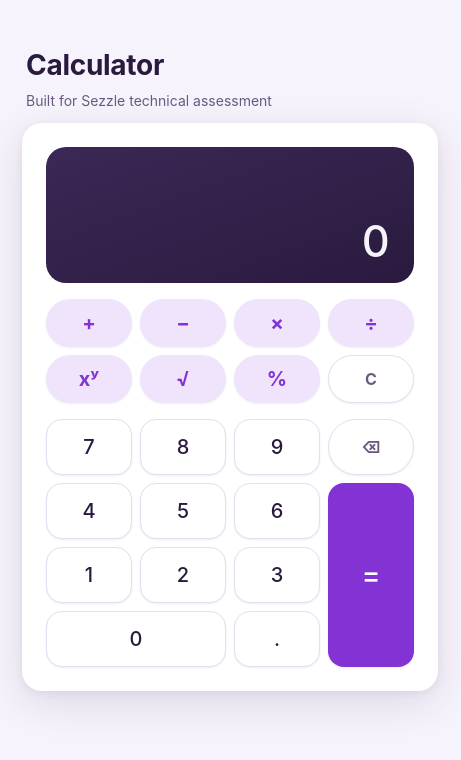
Test: App › shows a loading state and prevents double submits
Step 1. Click the button "2" → x=183, y=574, box [140, 546, 226, 602]
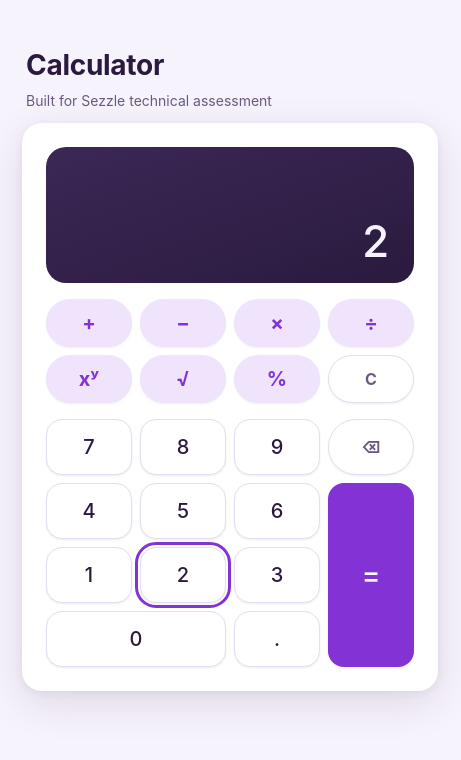
Step 2. Click the button named "Add" → x=89, y=322, box [46, 298, 132, 346]
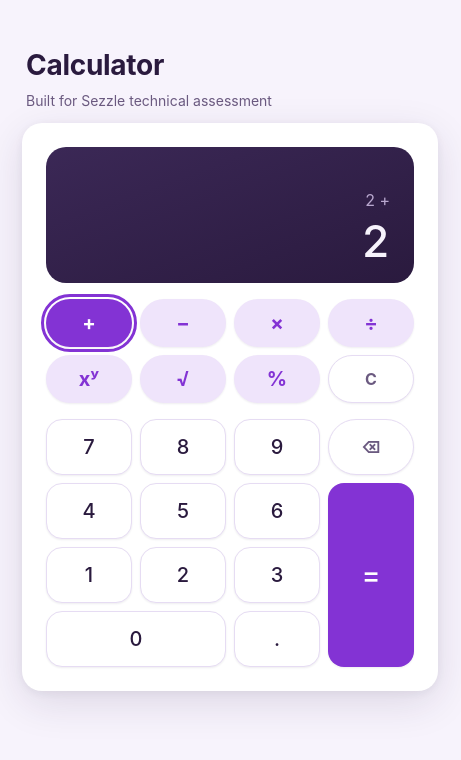
Step 3. Click the button "3" → x=277, y=574, box [234, 546, 320, 602]
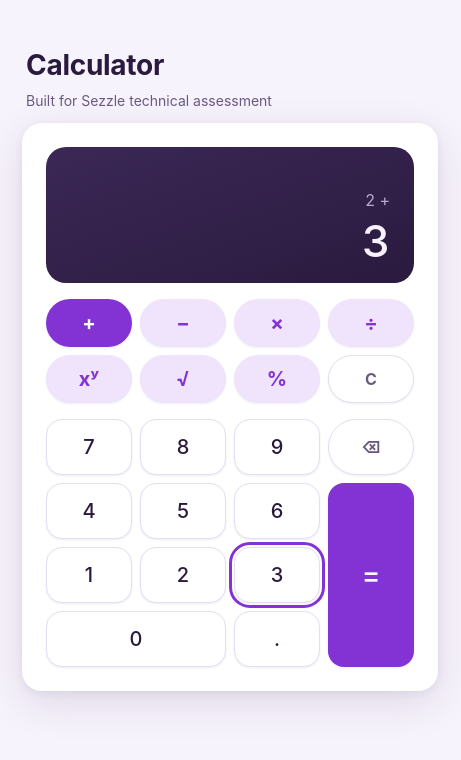
Step 4. Click the button named "Equals" → x=371, y=574, box [328, 482, 414, 666]
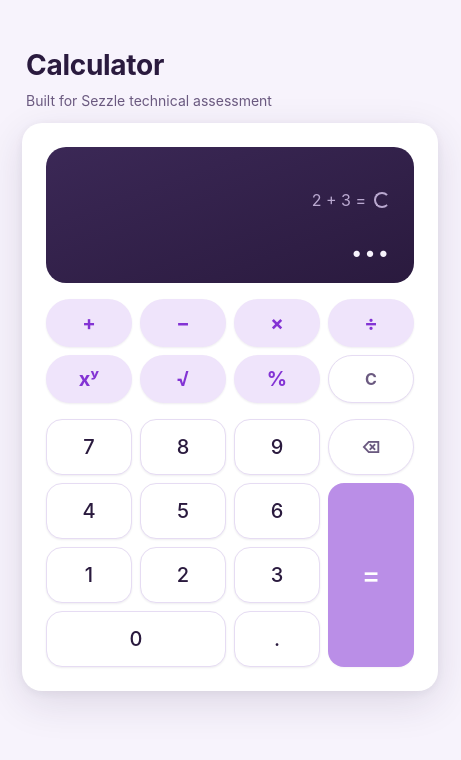
Expected: the button named "Equals" is disabled, [328, 482, 414, 666]
Step 5. Press Enter
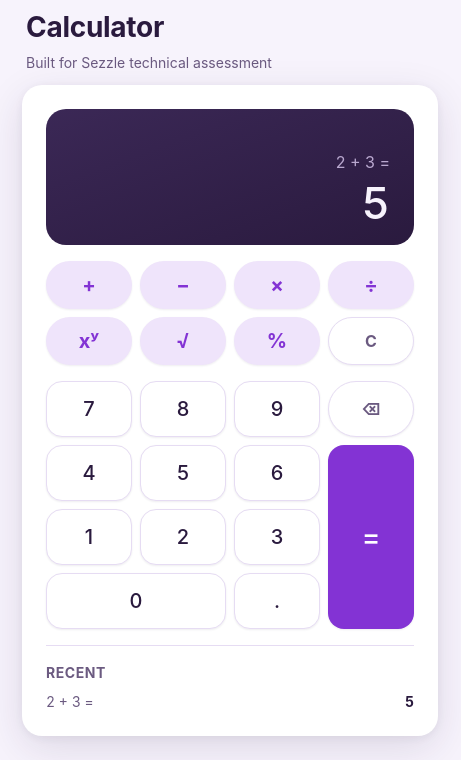
Expected: the 1st text "5" is shown, [362, 176, 390, 230]
Expected: the button named "Equals" is enabled, [328, 445, 414, 629]
